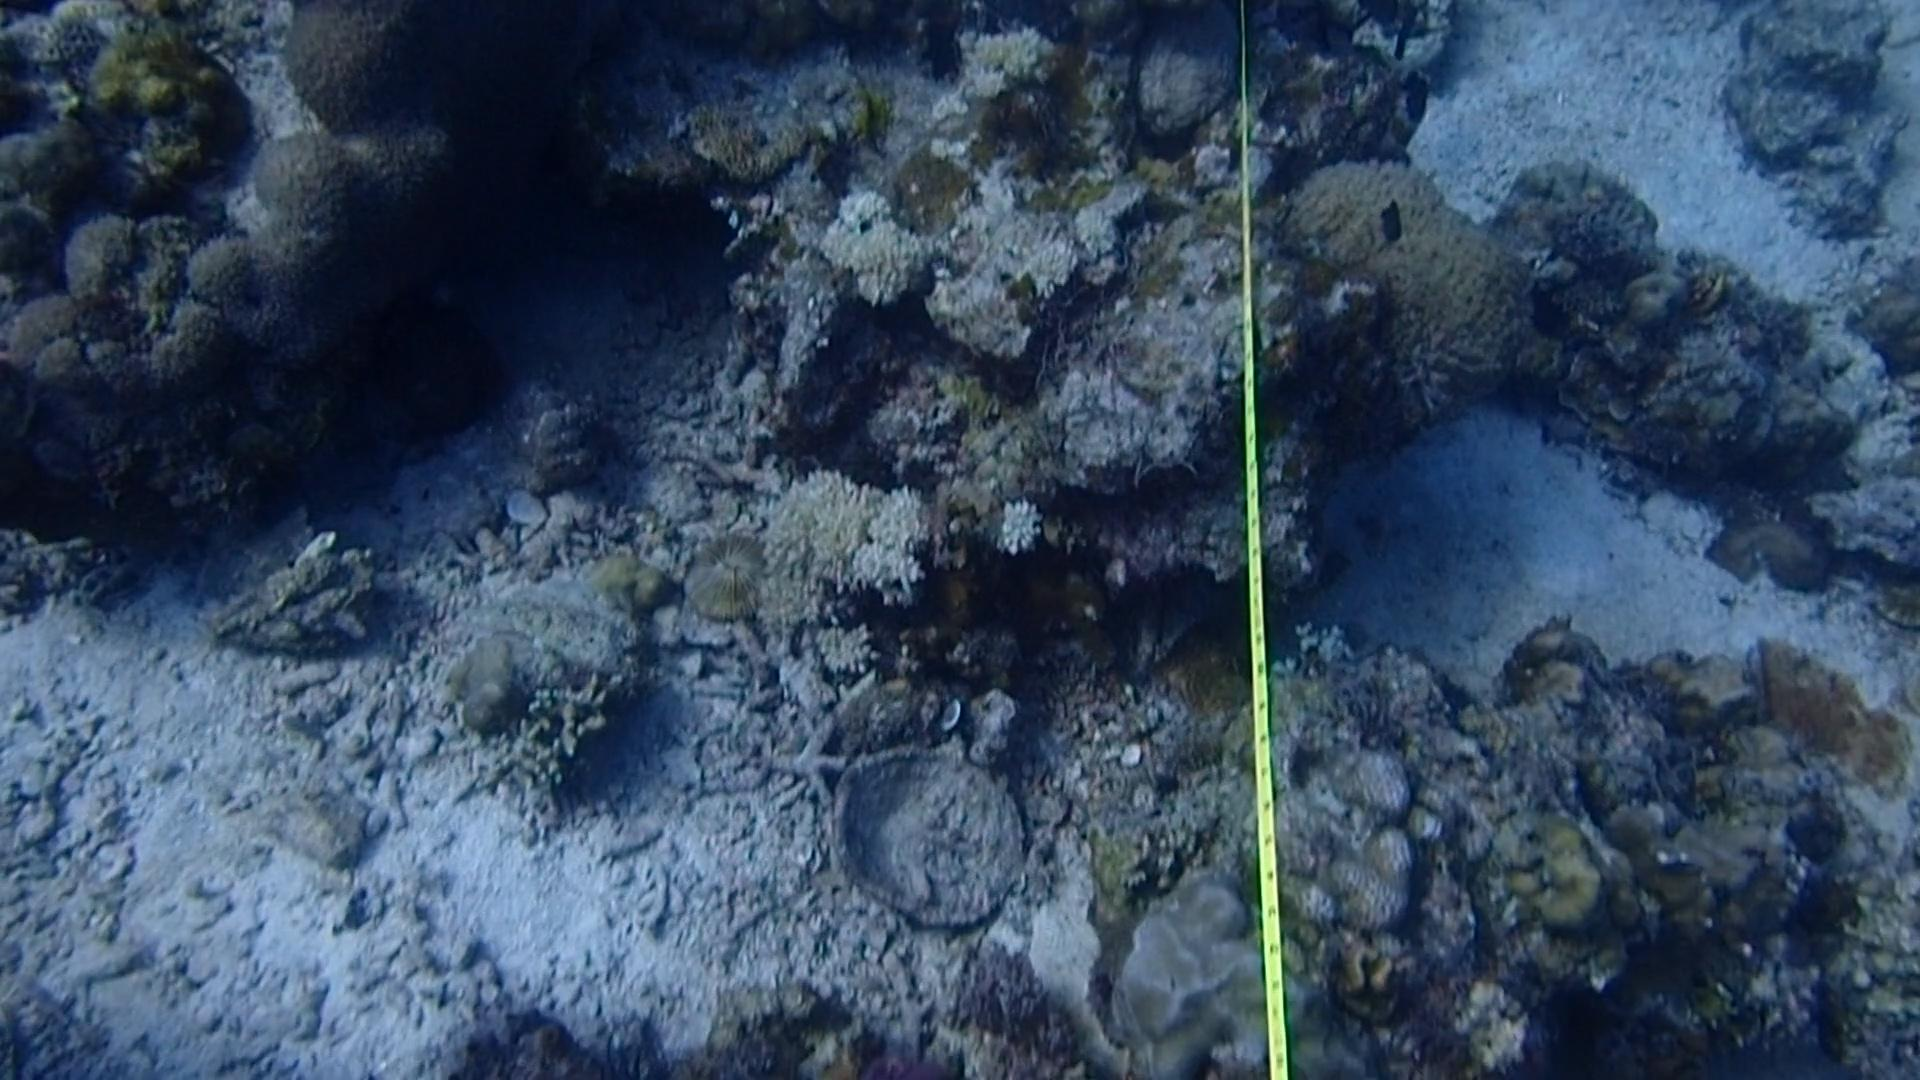Dark Fish: (1361, 183, 1416, 253), (1398, 78, 1449, 124)
